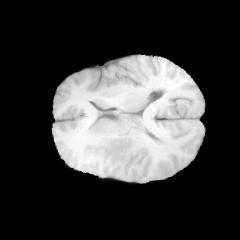glioma: (87, 126, 131, 153)
